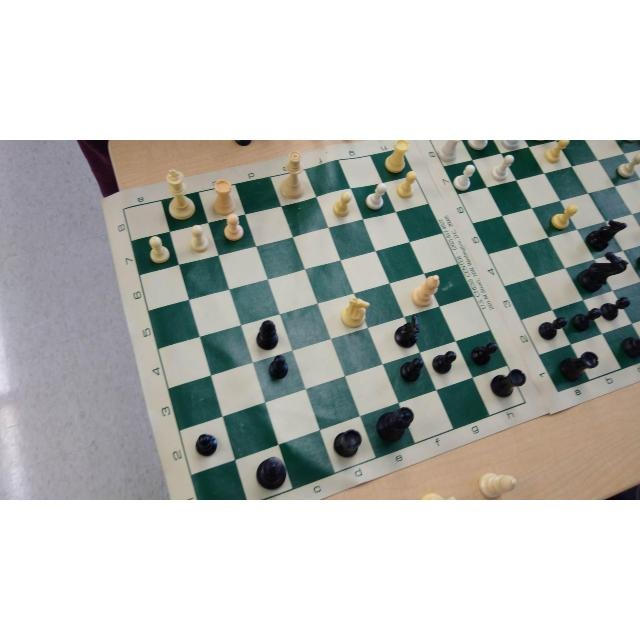black-bishop: (254, 318, 279, 352)
black-king: (575, 250, 629, 294), (583, 218, 627, 252), (255, 454, 289, 492), (393, 312, 423, 350)
black-pawn: (597, 294, 630, 323), (569, 306, 602, 333), (536, 315, 568, 342), (467, 339, 498, 366), (430, 348, 458, 376), (192, 432, 219, 458), (399, 357, 425, 383), (268, 353, 290, 383)
black-queen: (374, 403, 415, 443)
black-rook: (556, 348, 599, 383), (490, 366, 526, 402), (331, 427, 363, 459)
white-bishop: (408, 272, 442, 309)
white-king: (163, 167, 196, 222)
white-knight: (339, 294, 370, 331)
white-pawn: (145, 234, 171, 264), (489, 154, 515, 184), (549, 204, 579, 230), (188, 223, 212, 255), (452, 162, 477, 192), (221, 213, 245, 243), (616, 150, 640, 179), (544, 140, 572, 164), (396, 170, 418, 200), (364, 182, 387, 210), (331, 192, 353, 218)
white-queen: (277, 149, 308, 201)
white-rook: (210, 178, 238, 217), (384, 140, 410, 176), (437, 140, 461, 162)
